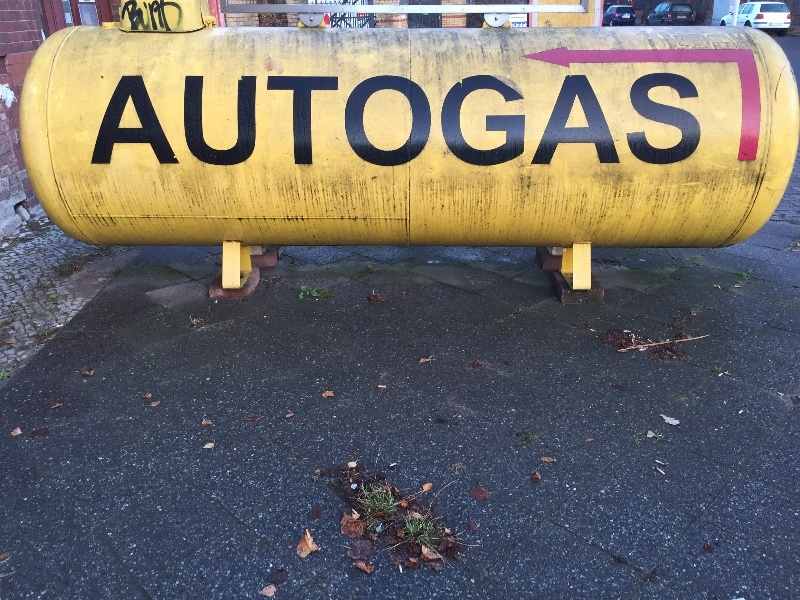text: (129, 73, 144, 169), (145, 73, 160, 169), (161, 73, 176, 169), (177, 73, 192, 169), (193, 73, 208, 169), (209, 73, 224, 169), (225, 73, 240, 169), (241, 73, 256, 169), (257, 73, 272, 169), (273, 73, 288, 169), (289, 73, 304, 169), (305, 73, 320, 169), (321, 73, 336, 169), (337, 73, 352, 169), (353, 73, 368, 169), (369, 73, 384, 169), (385, 73, 400, 169), (401, 73, 416, 169), (417, 73, 432, 169), (433, 73, 448, 169), (449, 73, 464, 169), (465, 73, 480, 169), (481, 73, 496, 169), (497, 73, 512, 169), (513, 73, 528, 169), (529, 73, 544, 169), (545, 73, 560, 169), (561, 73, 576, 169), (577, 73, 592, 169), (593, 73, 608, 169), (609, 73, 624, 169), (625, 73, 640, 169), (641, 73, 656, 169), (657, 73, 672, 169), (673, 73, 688, 169), (689, 73, 702, 169), (118, 73, 128, 169), (129, 1, 144, 31), (145, 1, 160, 31), (161, 1, 176, 31), (120, 1, 128, 31), (177, 1, 184, 31), (513, 23, 528, 28)
